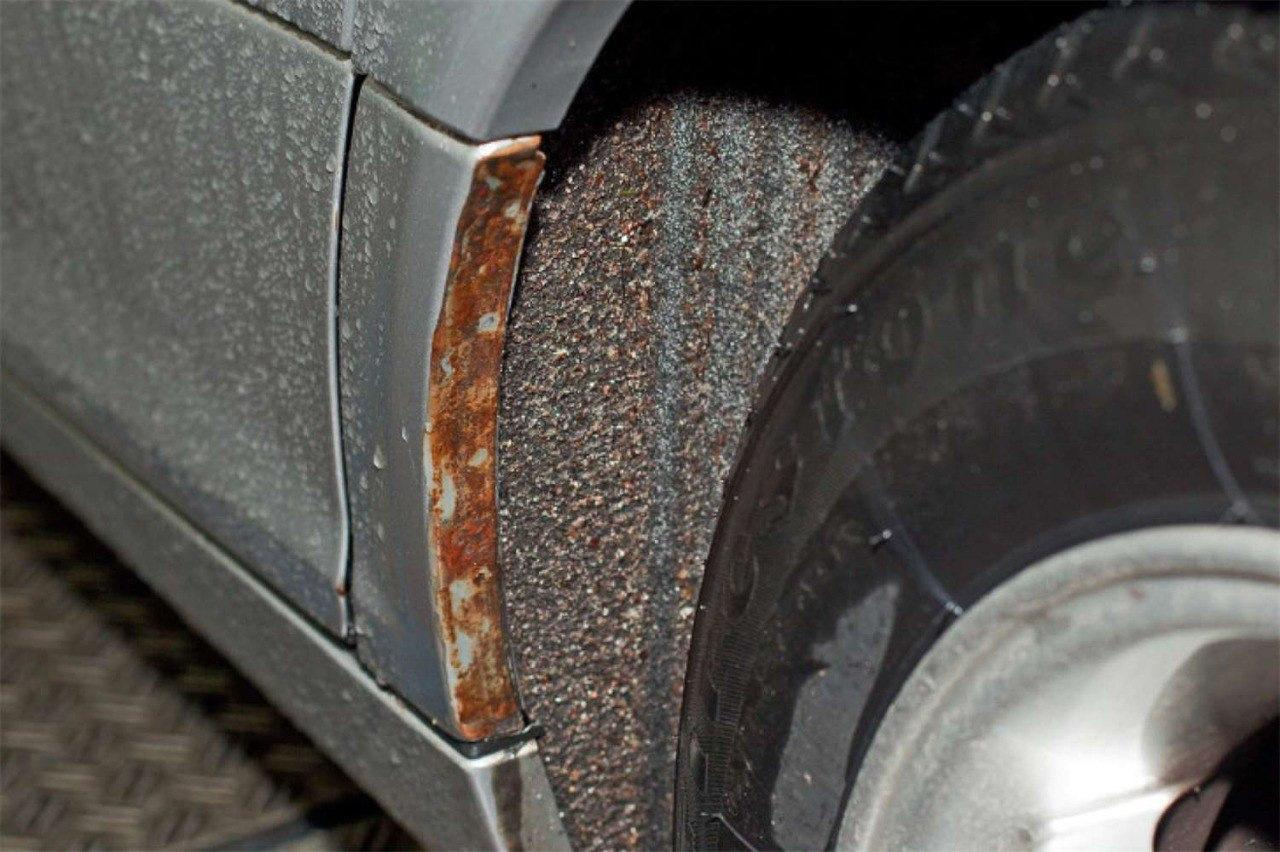corrosion: (429, 139, 546, 741)
